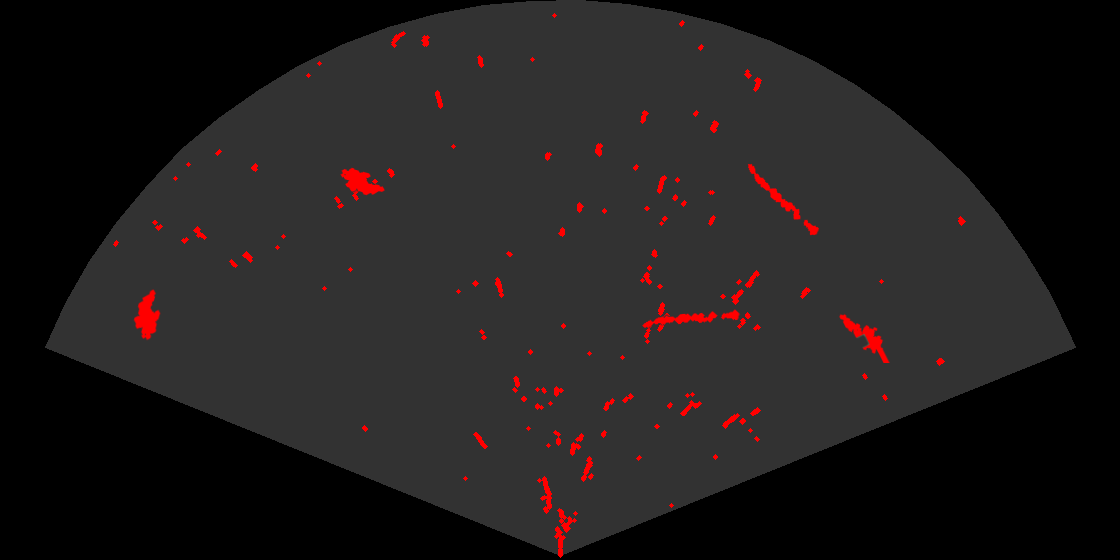AUV: (132, 288, 162, 342), (339, 166, 386, 197)
chain: (746, 162, 821, 237), (641, 308, 741, 329)
frogman: (838, 312, 891, 363)
